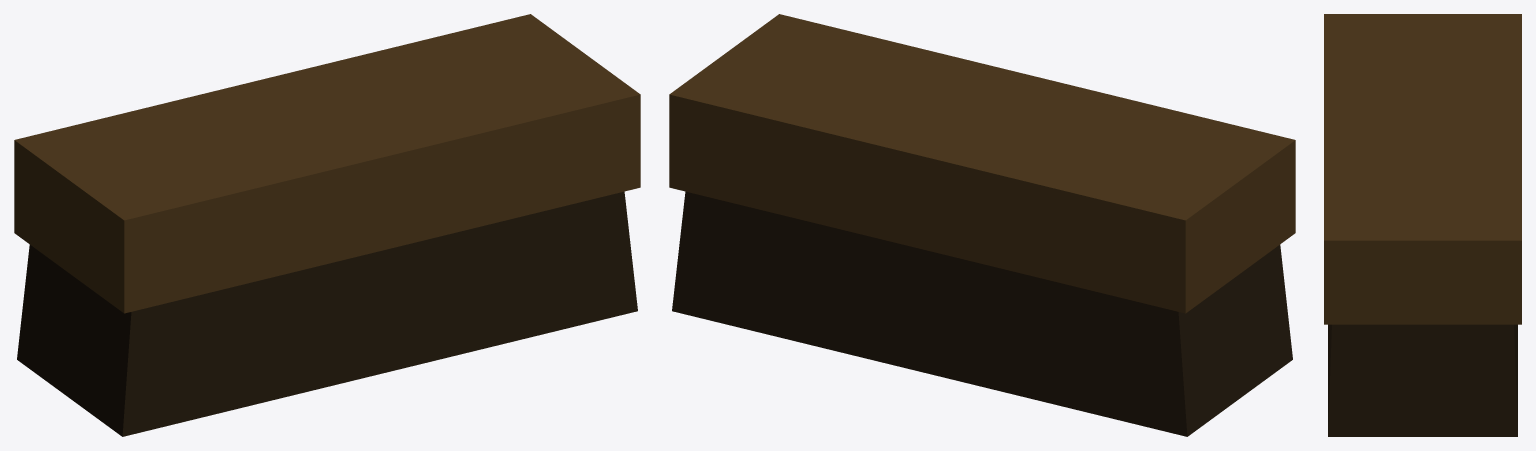
File: brush.glb
3 views of the same model, side by side, from view 1: azimuth 30°, elevation 25°; view 2: azimuth 150°, elevation 25°; view 3: azimuth 270°, elevation 25° (orthographic). The views are drawn at different scales.
Visible parts, largest first — view 1: Brush; view 2: Brush; view 3: Brush.
Boxes of the visible parts, box(x1,y1,x2,y2) form: Brush: box(14, 14, 640, 436); Brush: box(669, 14, 1295, 436); Brush: box(1324, 14, 1521, 436).
Bounding box in the file's own units: 0.6 × 0.2423 × 0.2213.
